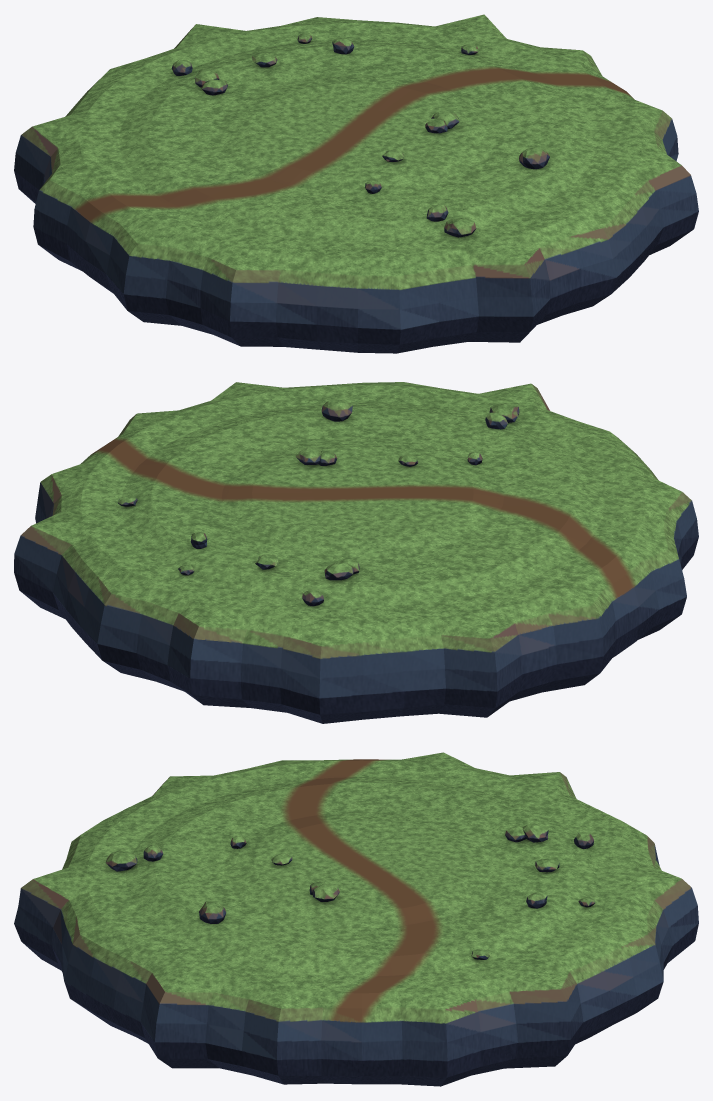
File: island-hub.glb
3 views of the same model, one above another, from view 1: azimuth 30°, elevation 25°; view 2: azimuth 150°, elevation 25°; view 3: azimuth 270°, elevation 25° (orthographic). The views are drawn at different scales.
Parts seen in each view (by area): view 1: island_hub; view 2: island_hub; view 3: island_hub.
Boxes of the visible parts, x1,y1,x2,y2 form: island_hub: [14, 14, 698, 353]; island_hub: [14, 382, 698, 723]; island_hub: [14, 752, 698, 1086].
Size of the model in its own units: 130 by 30.9 by 139.
Materials: 1 (1 with a texture image).
